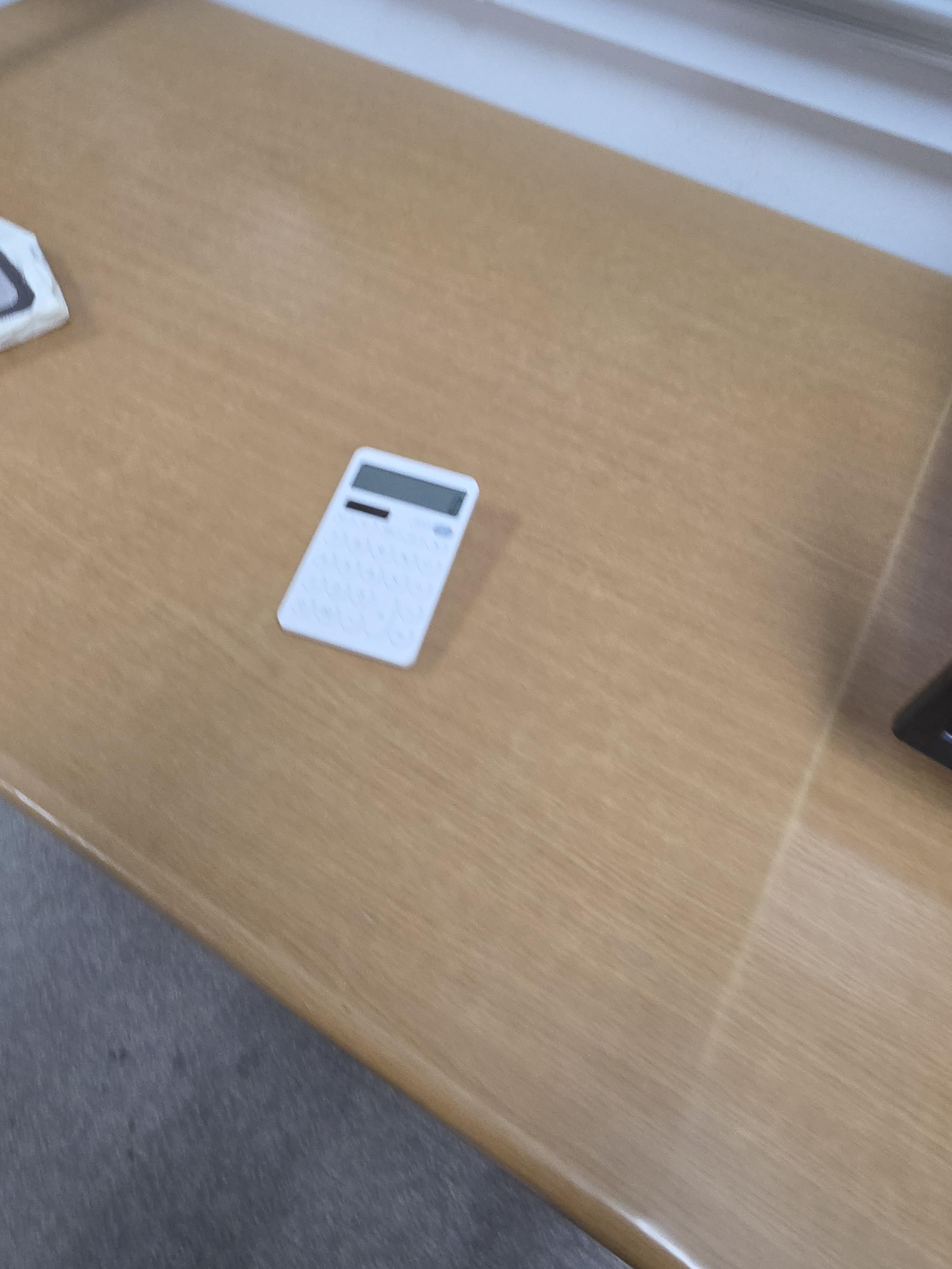calculator: (276, 445, 480, 669)
